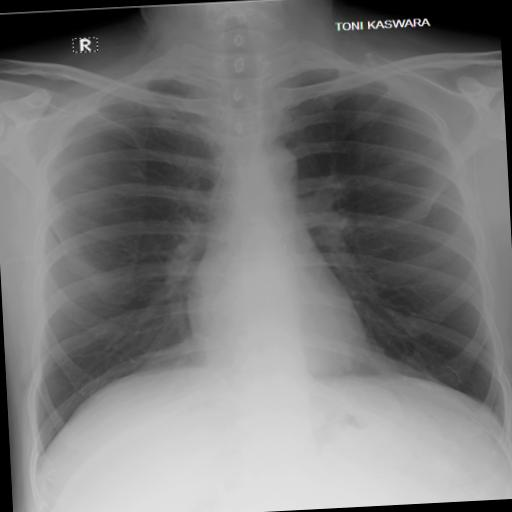normal: (2, 27, 512, 478)
